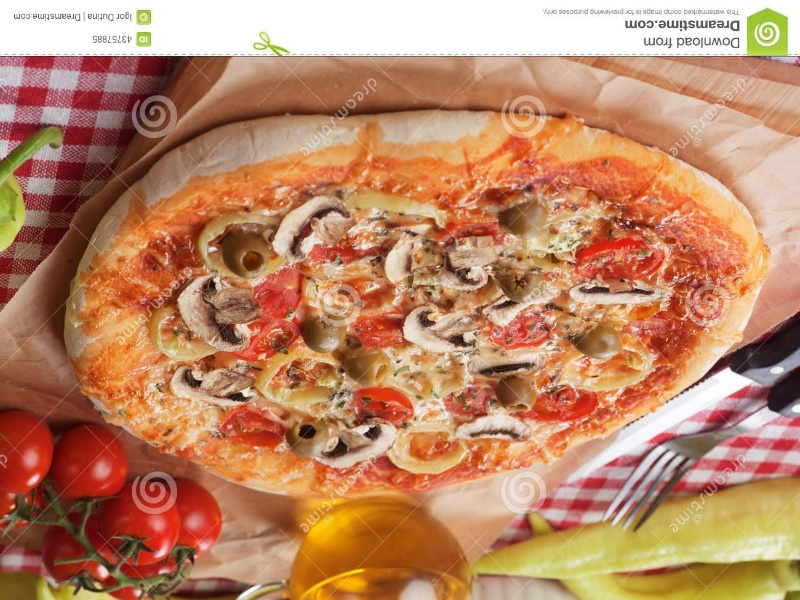champignon: (175, 270, 266, 354), (270, 191, 348, 270), (159, 359, 261, 412), (402, 301, 481, 358), (321, 421, 404, 468), (454, 412, 538, 455), (569, 273, 675, 306)
olive: (214, 227, 280, 283), (287, 312, 356, 359), (572, 318, 631, 369), (488, 370, 552, 417), (488, 199, 556, 242), (281, 412, 334, 467), (340, 344, 395, 395)
